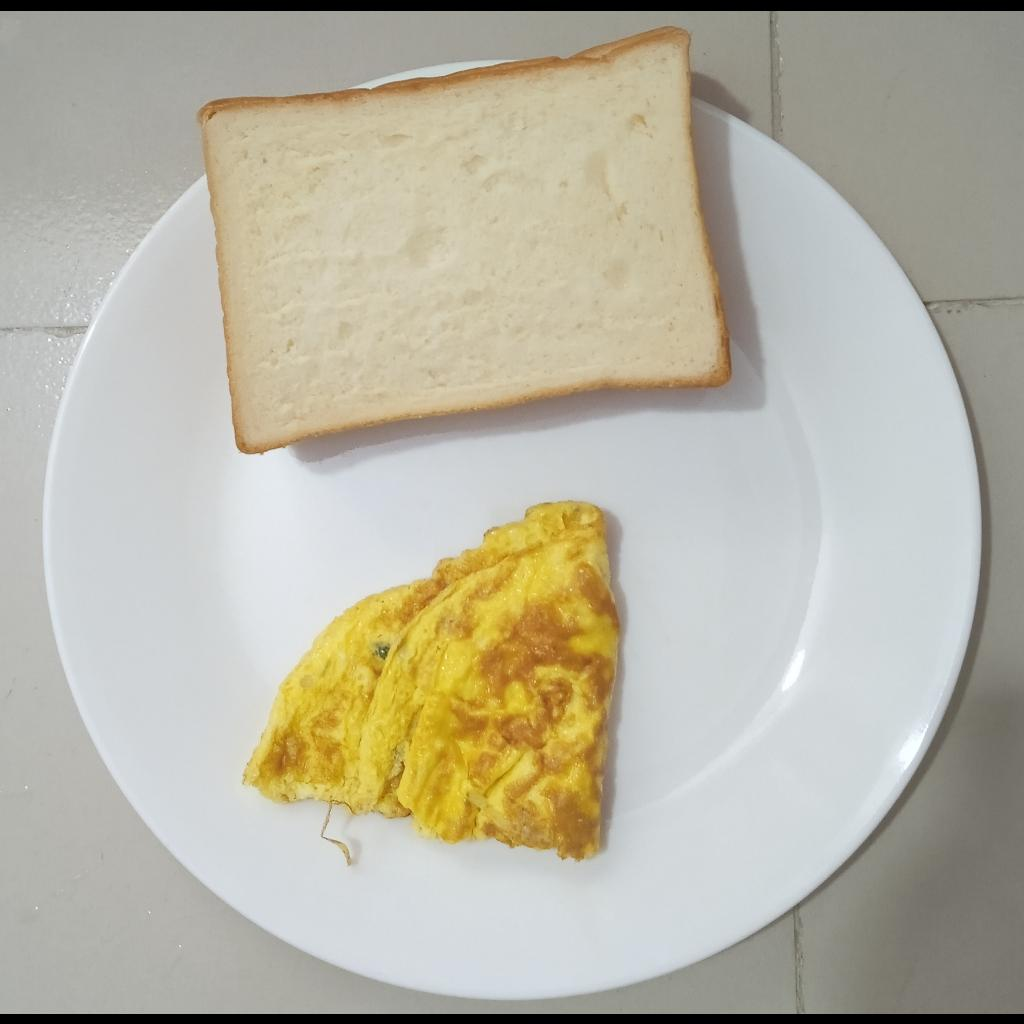bread: (197, 23, 732, 455)
egg-poached: (242, 499, 620, 862)
